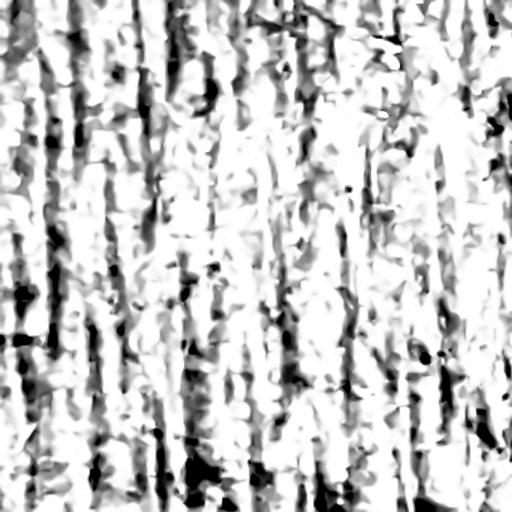egg: (187, 473, 197, 485), (421, 352, 429, 363)
